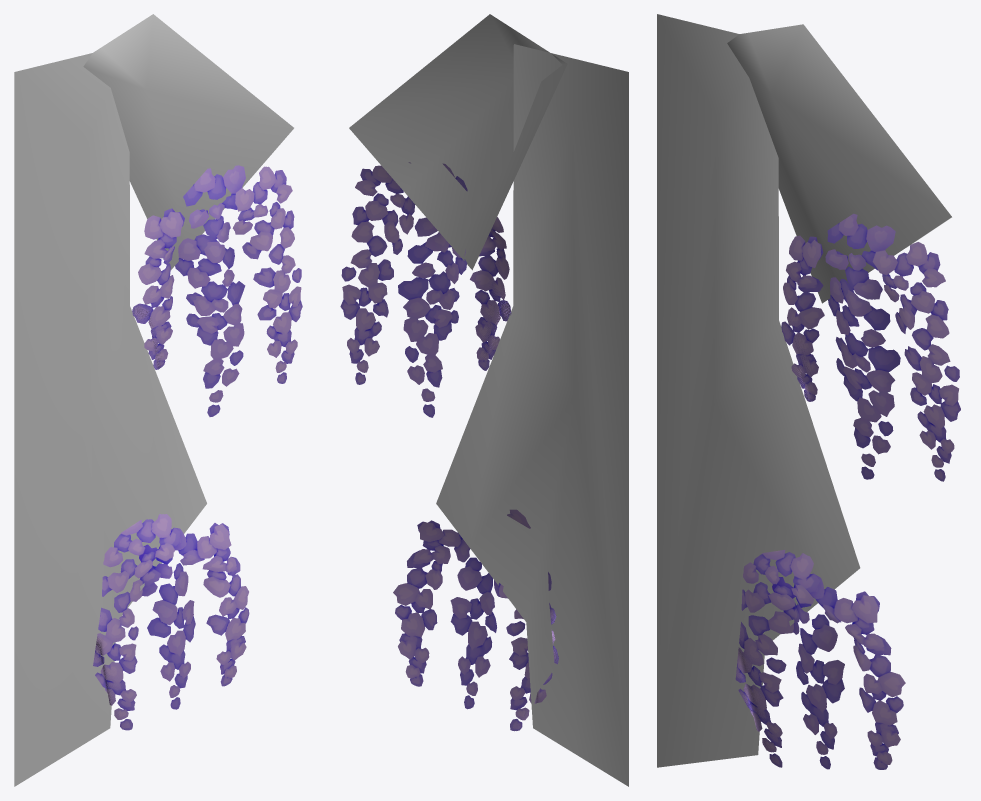
Rendered from SM_Env_Vines_Preset_Wall_01.fbx.
The picture shows the model from 3 angles, left to right: view 1: azimuth 30°, elevation 25°; view 2: azimuth 150°, elevation 25°; view 3: azimuth 330°, elevation 25°; orthographic projection. The views are drawn at different scales.
Parts seen in each view (by area): view 1: SM_Env_Vines_Preset_Wall_01; view 2: SM_Env_Vines_Preset_Wall_01; view 3: SM_Env_Vines_Preset_Wall_01.
Boxes of the visible parts, box(x1,y1,x2,y2) form: SM_Env_Vines_Preset_Wall_01: box(14, 14, 302, 786); SM_Env_Vines_Preset_Wall_01: box(340, 14, 628, 786); SM_Env_Vines_Preset_Wall_01: box(657, 14, 960, 769).
Size of the model in its own units: 126 by 303 by 9.43.
